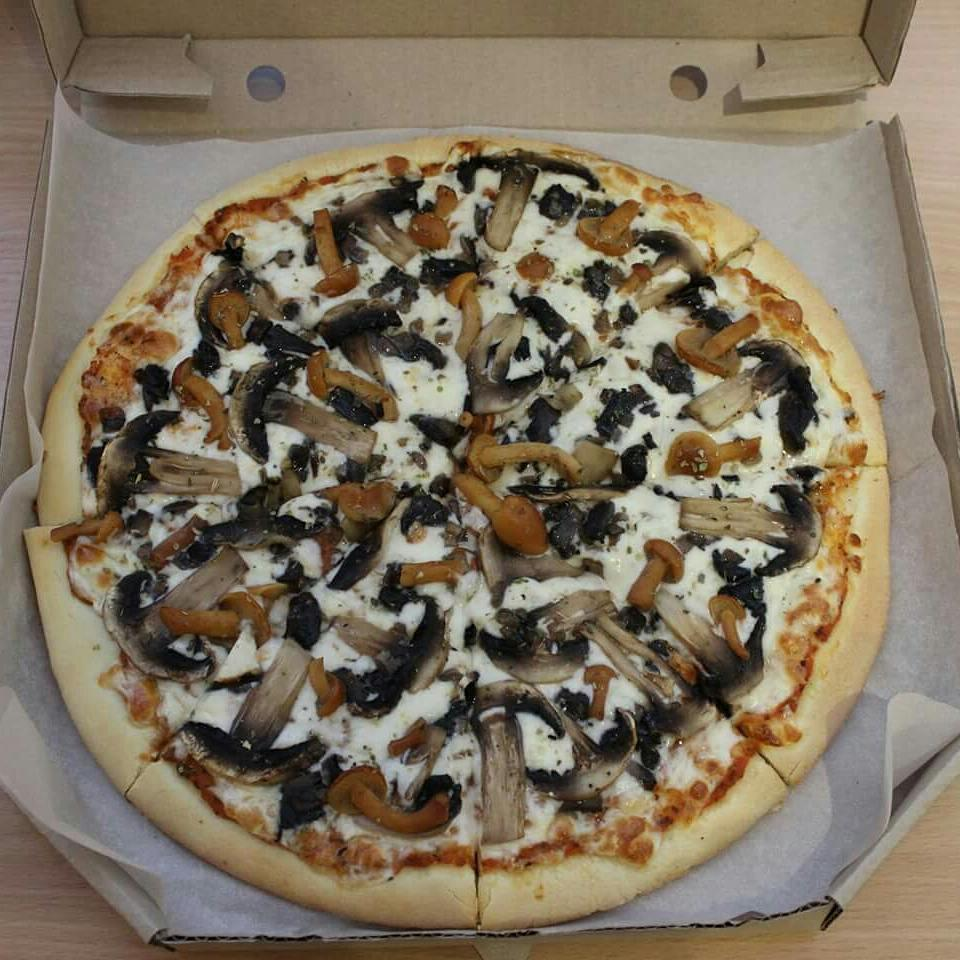Mushroom: (87, 537, 259, 685), (149, 441, 327, 569), (176, 634, 310, 788), (652, 582, 779, 739), (77, 407, 250, 520), (221, 360, 383, 472), (688, 331, 823, 461), (450, 147, 603, 261), (681, 477, 825, 591), (460, 676, 547, 851), (523, 688, 643, 808), (325, 606, 451, 718), (578, 612, 698, 718), (188, 237, 291, 352), (319, 761, 460, 838), (475, 525, 608, 606), (305, 298, 407, 400), (629, 221, 728, 321), (478, 605, 595, 687), (447, 466, 554, 554), (156, 342, 241, 452), (318, 178, 424, 266), (290, 349, 404, 429), (151, 573, 268, 650), (518, 436, 653, 501), (463, 297, 532, 411), (670, 306, 756, 378), (663, 426, 767, 482), (463, 433, 585, 480), (522, 293, 597, 368), (273, 752, 346, 829), (385, 543, 481, 600), (626, 531, 691, 614), (544, 499, 630, 561), (314, 469, 402, 529), (306, 205, 361, 294), (396, 467, 461, 540), (407, 411, 494, 464), (440, 267, 487, 365), (576, 192, 645, 258), (520, 374, 584, 444), (329, 524, 391, 596), (544, 580, 625, 634), (701, 588, 756, 660), (407, 181, 462, 252), (383, 321, 451, 377), (281, 582, 331, 653), (636, 340, 696, 396), (364, 258, 427, 311), (601, 380, 649, 434), (306, 651, 340, 718), (580, 655, 615, 718)
Pizza: (20, 131, 896, 947)
